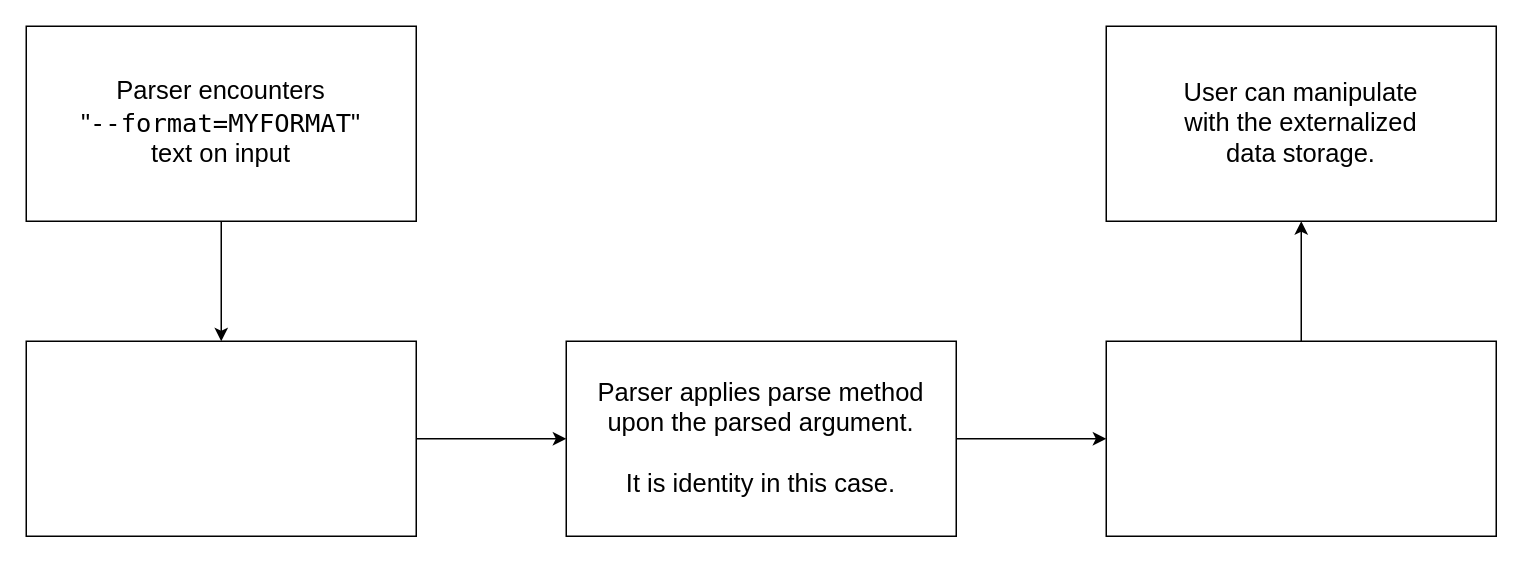
This 1523x563 diagram has some shape labels left out. The box of each missing label's shape, as (x1, y1, x2, y2) in pixels:
Callback is invoked with the argument originating from the previous step.: (1105, 340, 1496, 536)
Parser finds out the option to be parsed is "format": (25, 340, 416, 536)
